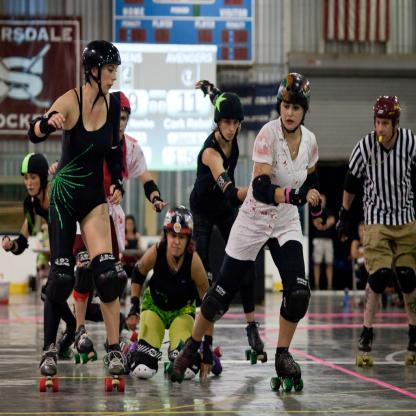Helmet: (77, 42, 117, 99), (277, 70, 311, 134), (163, 202, 195, 262), (211, 92, 244, 146), (19, 150, 49, 204), (373, 94, 401, 143), (115, 92, 132, 115)
